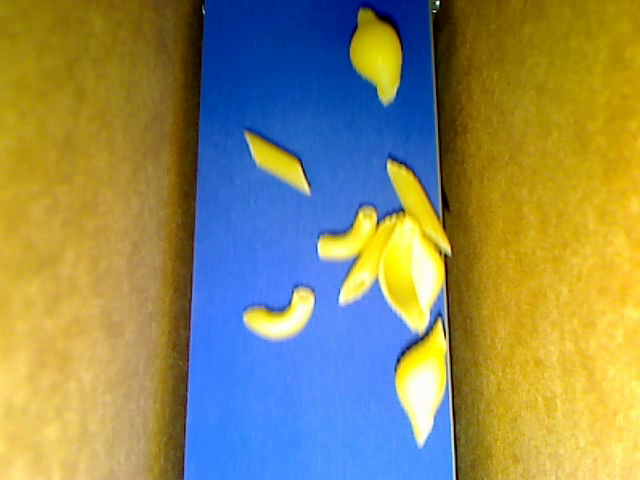elbow: (242, 284, 314, 342), (315, 205, 378, 262)
penne: (337, 210, 406, 306), (386, 158, 452, 256), (244, 129, 310, 194)
shell: (379, 216, 444, 336), (394, 315, 448, 450), (349, 6, 403, 108)
